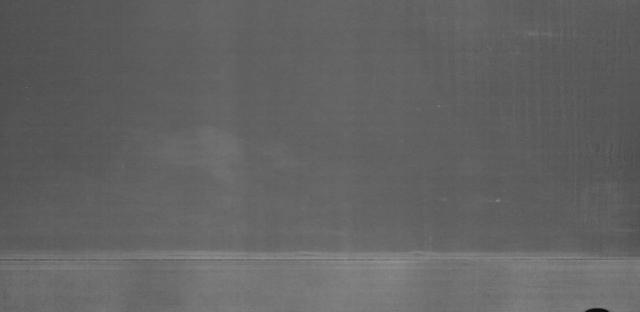punching_hole: (578, 303, 614, 312)
welding_line: (1, 249, 640, 270)
